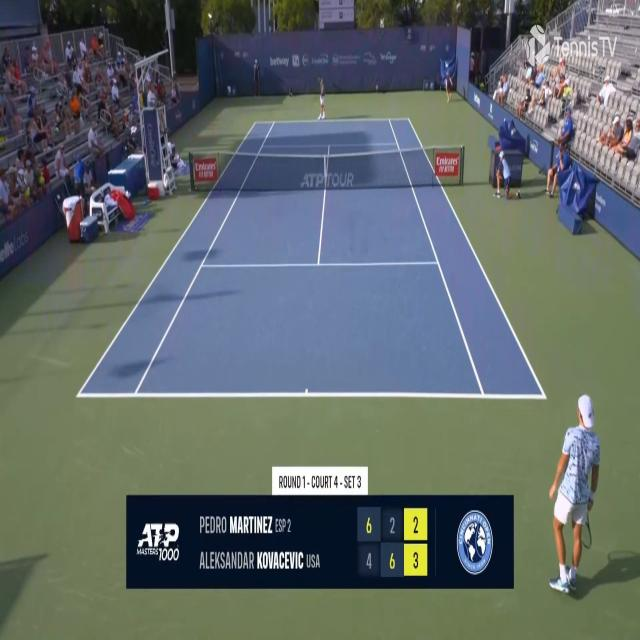tennis-player: (548, 387, 605, 598), (315, 74, 327, 122)
